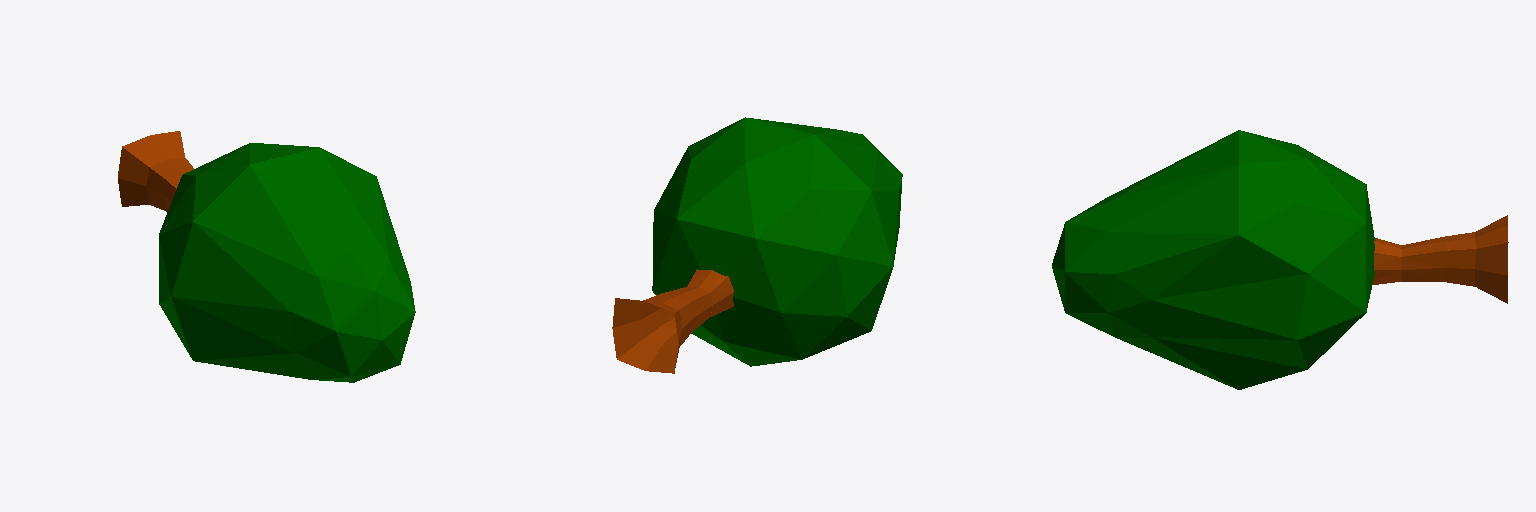
File: single_tree.obj
3 renders of one model, left to right at view 1: azimuth 30°, elevation 25°; view 2: azimuth 150°, elevation 25°; view 3: azimuth 270°, elevation 25°, orthographic.
Visible parts, largest first — view 1: tree_1_Cube.001; view 2: tree_1_Cube.001; view 3: tree_1_Cube.001.
Boxes of the visible parts, <box> form: tree_1_Cube.001: <box>118,131,415,382</box>; tree_1_Cube.001: <box>612,117,902,373</box>; tree_1_Cube.001: <box>1052,130,1508,389</box>.
Bounding box in the file's own units: 1.65 × 1.7 × 3.11.